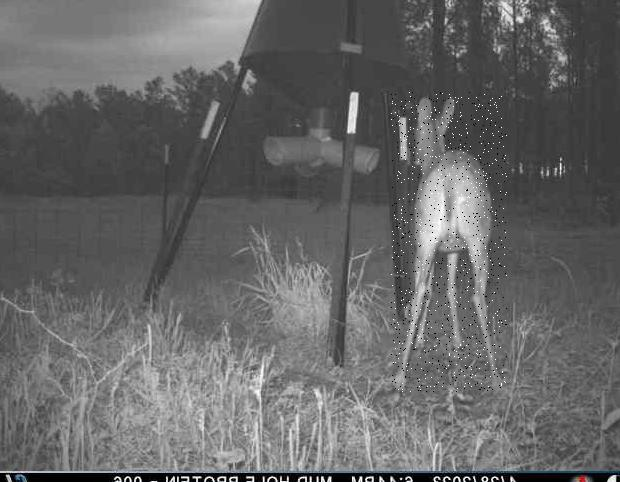Deer: (390, 93, 506, 393)
